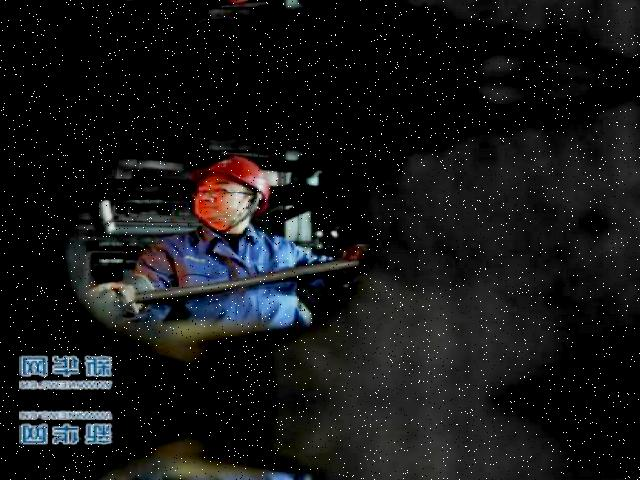Helmet: (204, 150, 276, 208)
